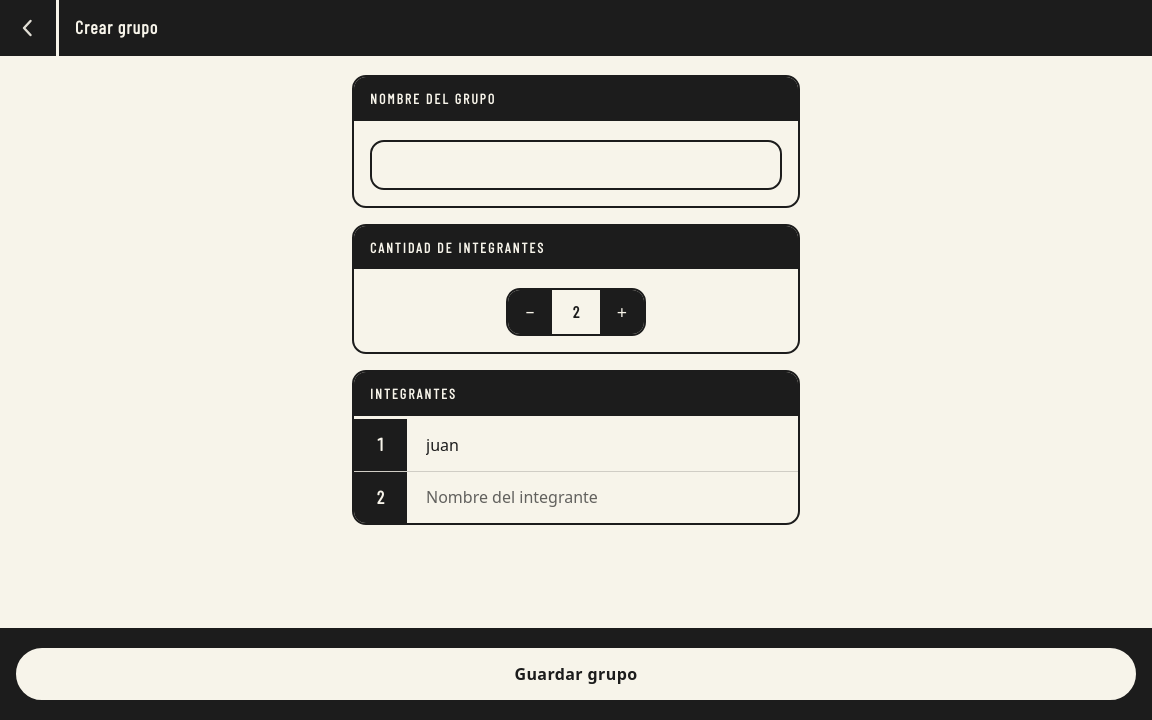
Test: CreateGroupScreen › agrega y quita integrantes con los botones
The image size is (1152, 720).
Click the button named "Agregar integrante" at coordinates (622, 312), box left=600, top=290, right=644, bottom=334
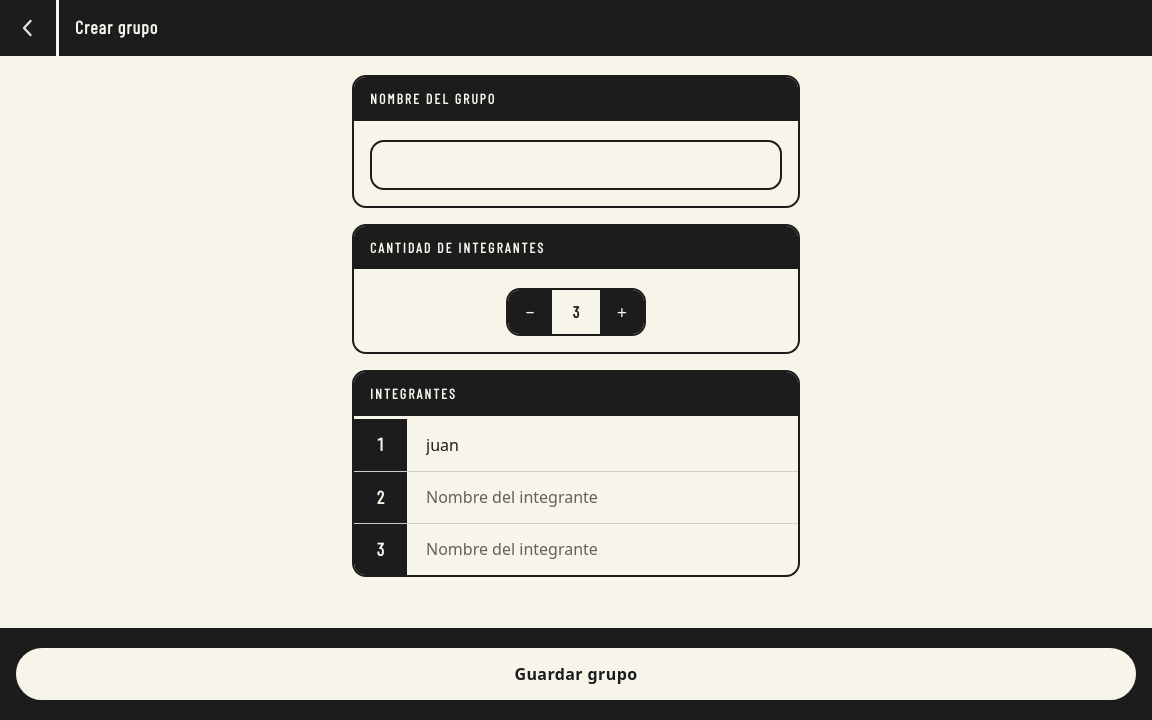
expect the field named "Integrante 3" is shown: met, box left=410, top=524, right=798, bottom=575
Click the button named "Eliminar integrante" at coordinates (530, 312), box left=508, top=290, right=552, bottom=334
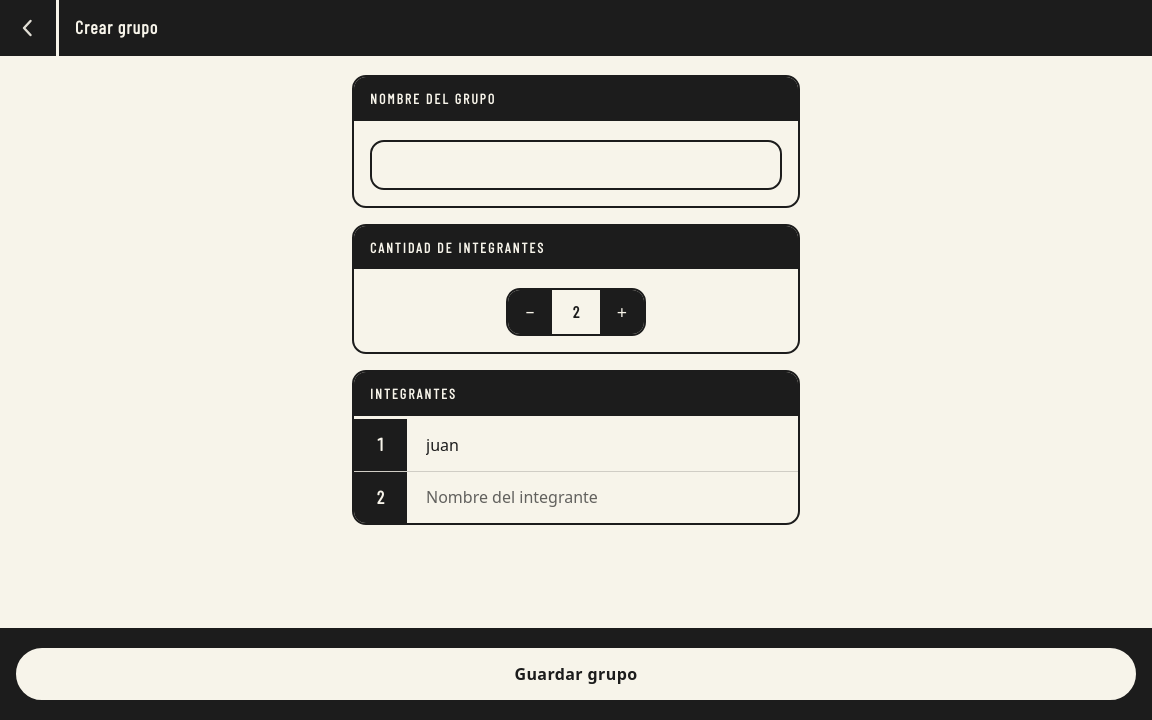
expect the field labelled "Integrante 3" is gone: met
